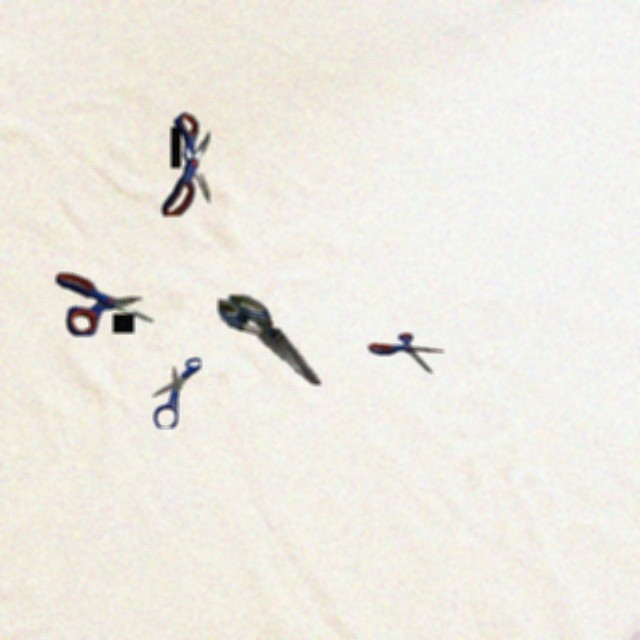scissors: (218, 295, 321, 385), (56, 273, 153, 336), (162, 112, 210, 216), (153, 358, 201, 428), (368, 333, 444, 373)
